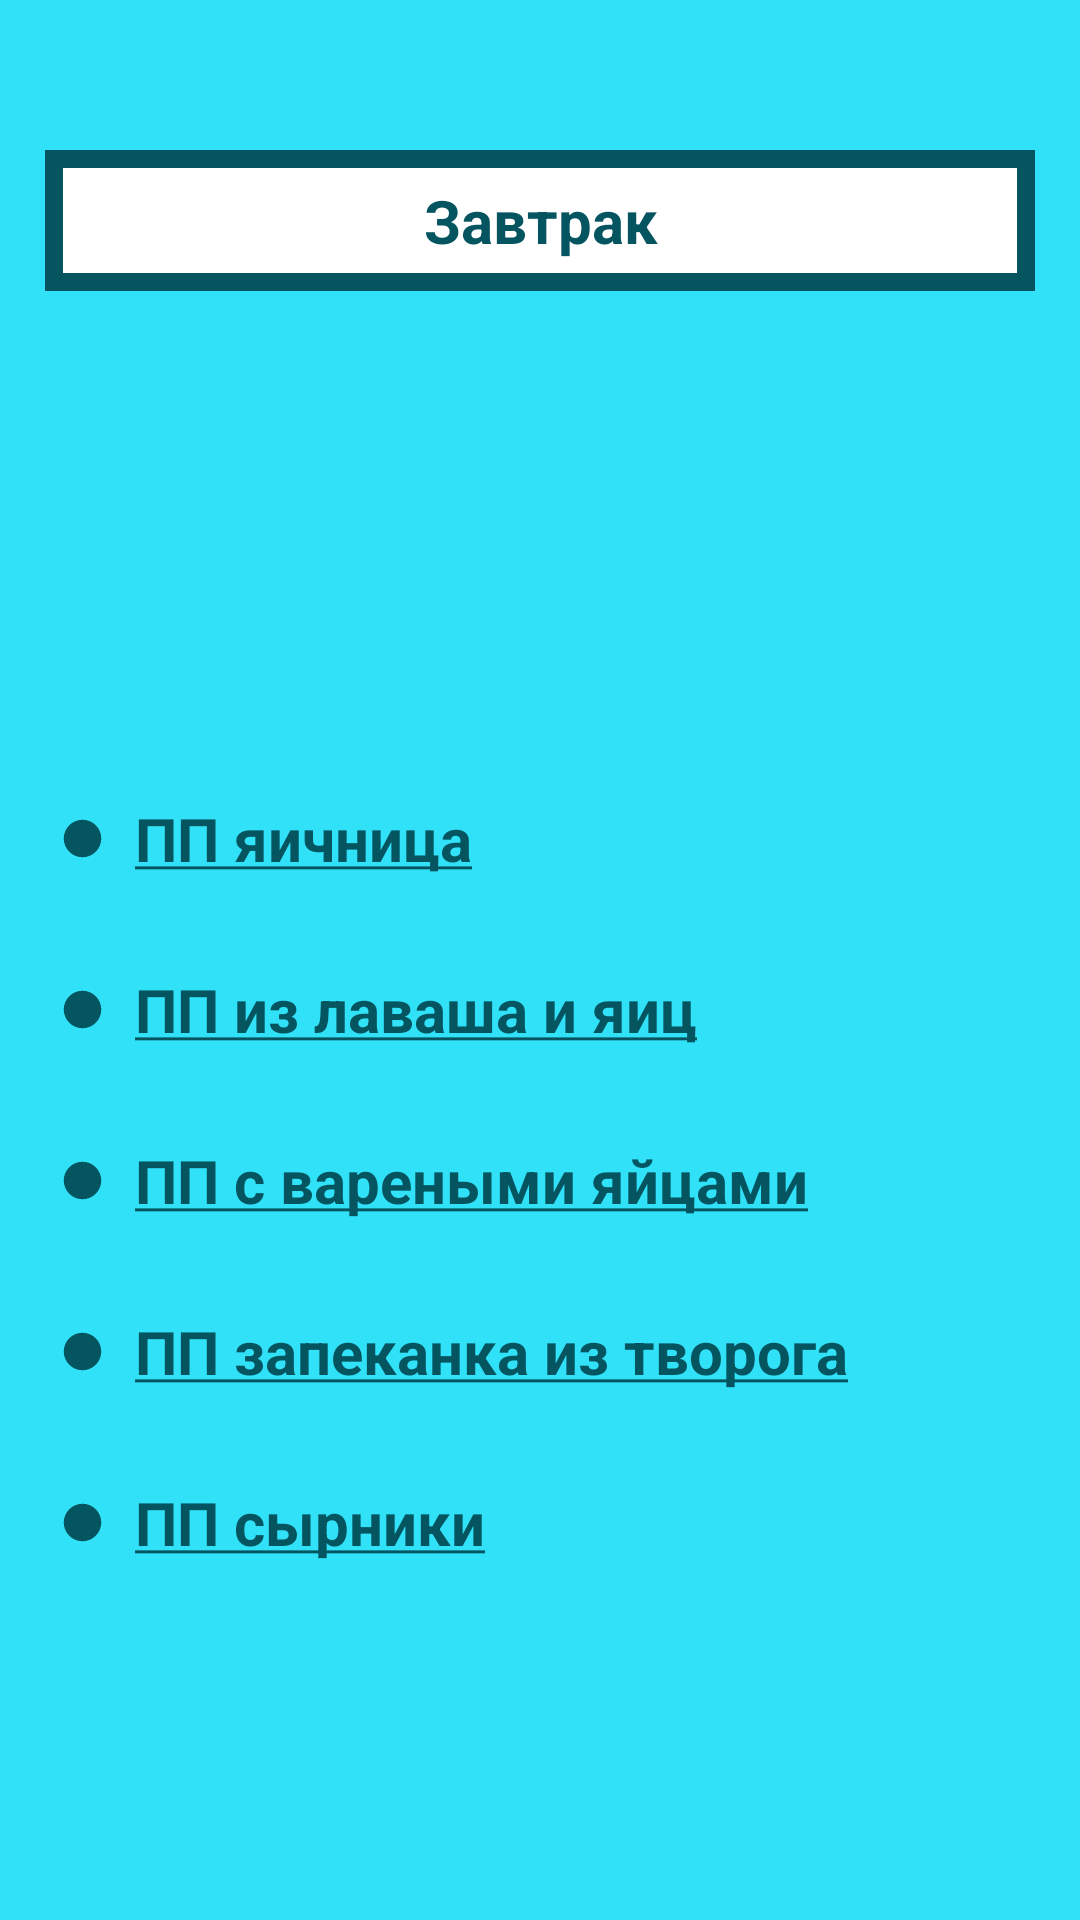

Locate icon controls on the screen. Image size 1080px x 1920px, boxes as {"left": x1, "top": y1, "right": x2, "bottom": y2}.
tochka: {"left": 63, "top": 819, "right": 102, "bottom": 858}, {"left": 63, "top": 990, "right": 102, "bottom": 1029}, {"left": 63, "top": 1161, "right": 102, "bottom": 1200}, {"left": 63, "top": 1332, "right": 102, "bottom": 1371}, {"left": 63, "top": 1503, "right": 102, "bottom": 1542}
